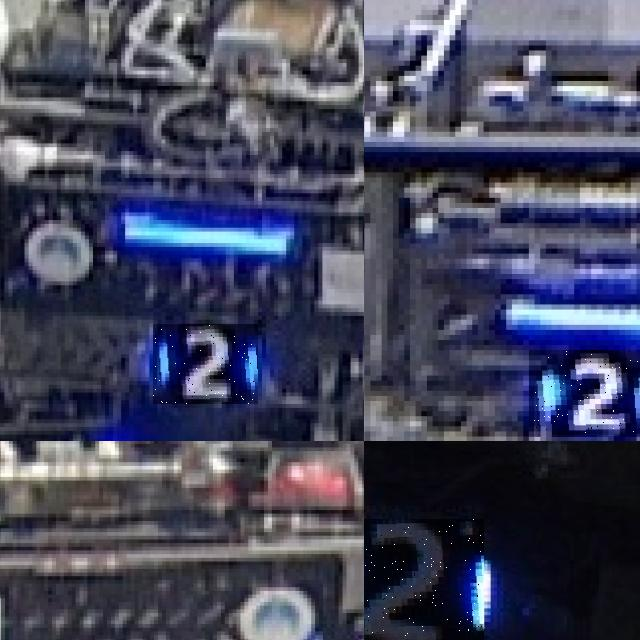B2: (364, 519, 484, 640), (528, 350, 640, 436), (153, 324, 258, 404)
